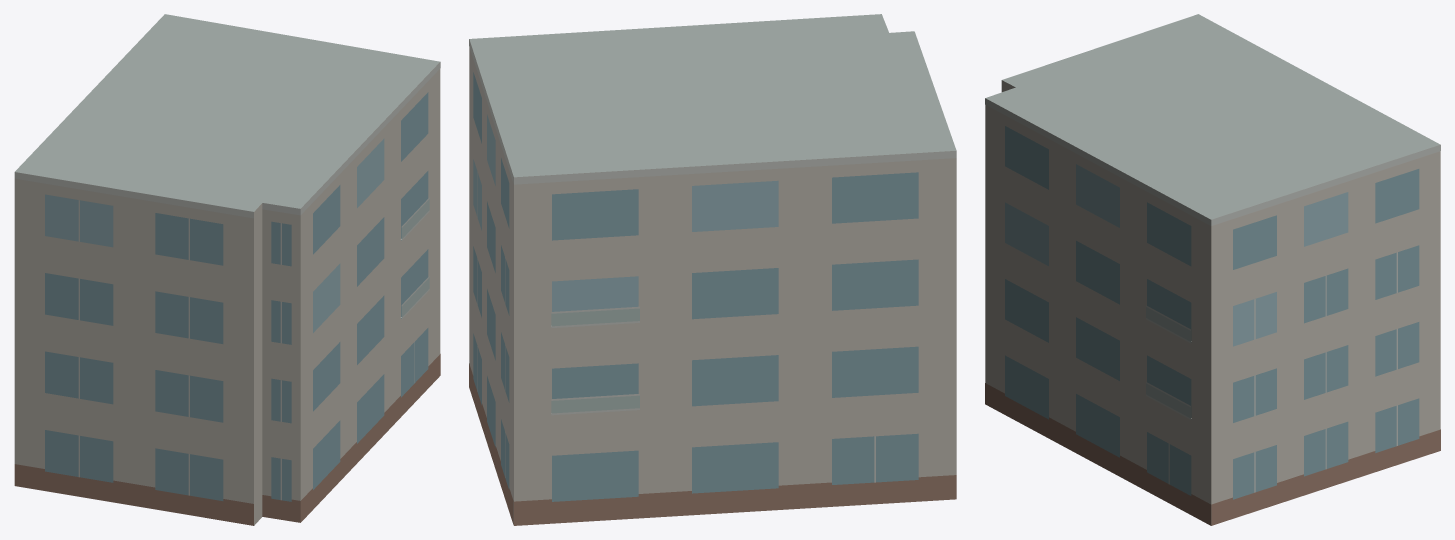
The model's file is survey-upis-32804463.glb.
3 renders of one model, left to right at view 1: azimuth 30°, elevation 25°; view 2: azimuth 150°, elevation 25°; view 3: azimuth 270°, elevation 25°, orthographic. The views are drawn at different scales.
Parts seen in each view (by area): view 1: survey-upis-32804463.tmp; view 2: survey-upis-32804463.tmp; view 3: survey-upis-32804463.tmp.
Part boxes in pixels (x1,y1,x2,y2): survey-upis-32804463.tmp: [14, 14, 440, 525]; survey-upis-32804463.tmp: [469, 14, 956, 525]; survey-upis-32804463.tmp: [985, 14, 1440, 525].
Bounding box in the file's own units: 16.73 × 11.6 × 15.65.
